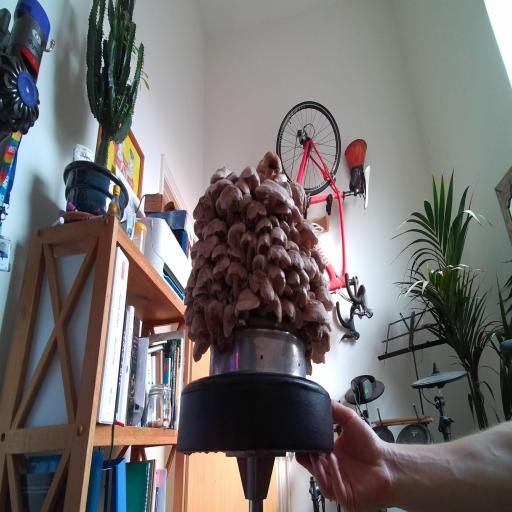Shiitake Mushroom: (243, 172, 306, 226), (223, 279, 269, 328), (238, 263, 287, 309), (209, 173, 249, 229), (216, 252, 254, 303), (259, 237, 301, 276), (235, 192, 275, 231), (258, 257, 296, 297), (236, 225, 265, 272), (283, 173, 314, 216), (184, 326, 218, 365), (304, 326, 341, 361), (234, 157, 267, 196), (189, 189, 220, 230), (307, 279, 343, 314), (203, 168, 239, 203), (205, 325, 241, 357), (184, 248, 216, 280), (208, 248, 235, 285), (272, 294, 305, 324), (295, 246, 322, 282), (196, 227, 223, 261), (218, 301, 241, 339), (301, 297, 333, 324), (295, 216, 319, 252), (232, 187, 256, 222), (258, 290, 284, 322), (194, 259, 217, 295), (307, 244, 330, 275), (205, 299, 224, 335), (282, 222, 307, 249), (262, 147, 283, 179), (225, 220, 248, 249), (283, 247, 310, 270), (206, 240, 233, 263), (206, 163, 235, 184), (202, 217, 228, 240), (292, 265, 315, 291), (223, 240, 248, 263), (269, 223, 290, 249), (189, 311, 209, 338), (191, 289, 209, 317), (270, 203, 293, 223), (292, 282, 309, 309), (253, 156, 272, 180), (187, 234, 203, 262), (183, 323, 201, 346), (183, 271, 200, 295), (181, 302, 197, 327), (303, 321, 324, 340), (276, 218, 295, 238), (254, 216, 274, 234), (257, 232, 272, 255), (189, 283, 210, 299), (178, 290, 197, 307), (209, 278, 223, 300), (269, 171, 289, 186), (309, 351, 328, 366), (286, 267, 300, 287), (293, 307, 305, 330), (252, 253, 268, 270), (304, 349, 313, 377), (225, 170, 241, 184), (268, 213, 280, 231), (315, 271, 328, 287), (191, 222, 201, 236), (286, 240, 299, 250), (196, 227, 204, 241)
